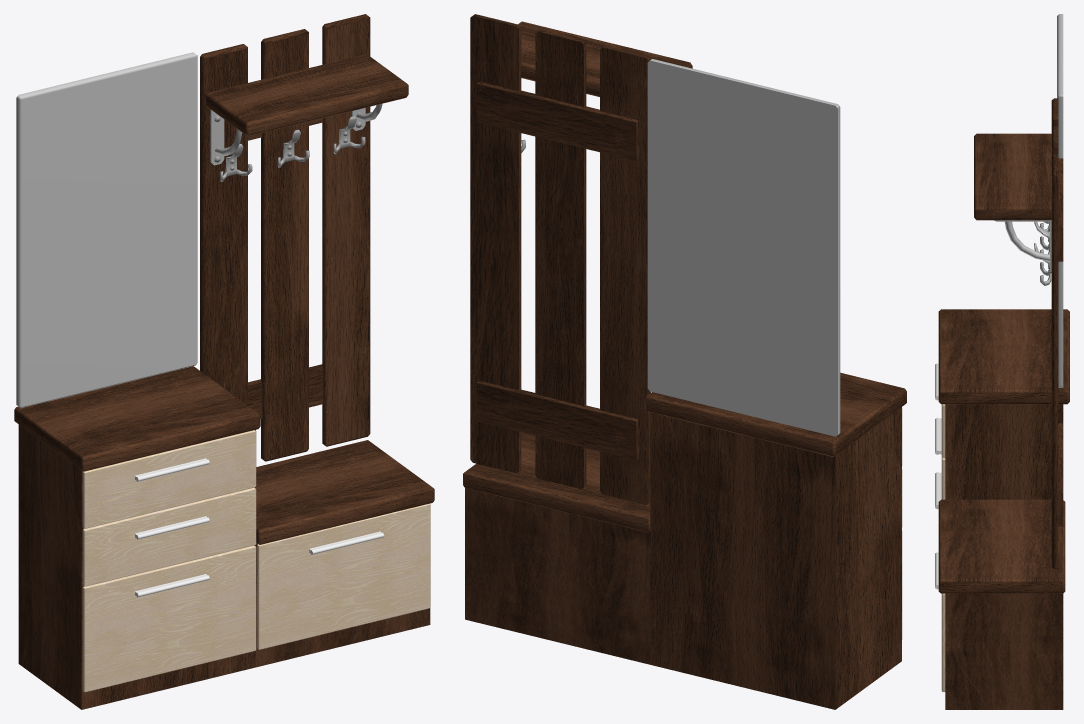
Rendered from cupboard_022.fbx.
3 renders of one model, left to right at view 1: azimuth 30°, elevation 25°; view 2: azimuth 150°, elevation 25°; view 3: azimuth 270°, elevation 25°, orthographic. The views are drawn at different scales.
Visible parts, largest first — view 1: cupboard_022; view 2: cupboard_022; view 3: cupboard_022.
Boxes of the visible parts, <box> form: cupboard_022: <box>14,14,434,709</box>; cupboard_022: <box>463,14,906,709</box>; cupboard_022: <box>935,14,1069,709</box>.
Size of the model in its own units: 156 by 54.86 by 241.
